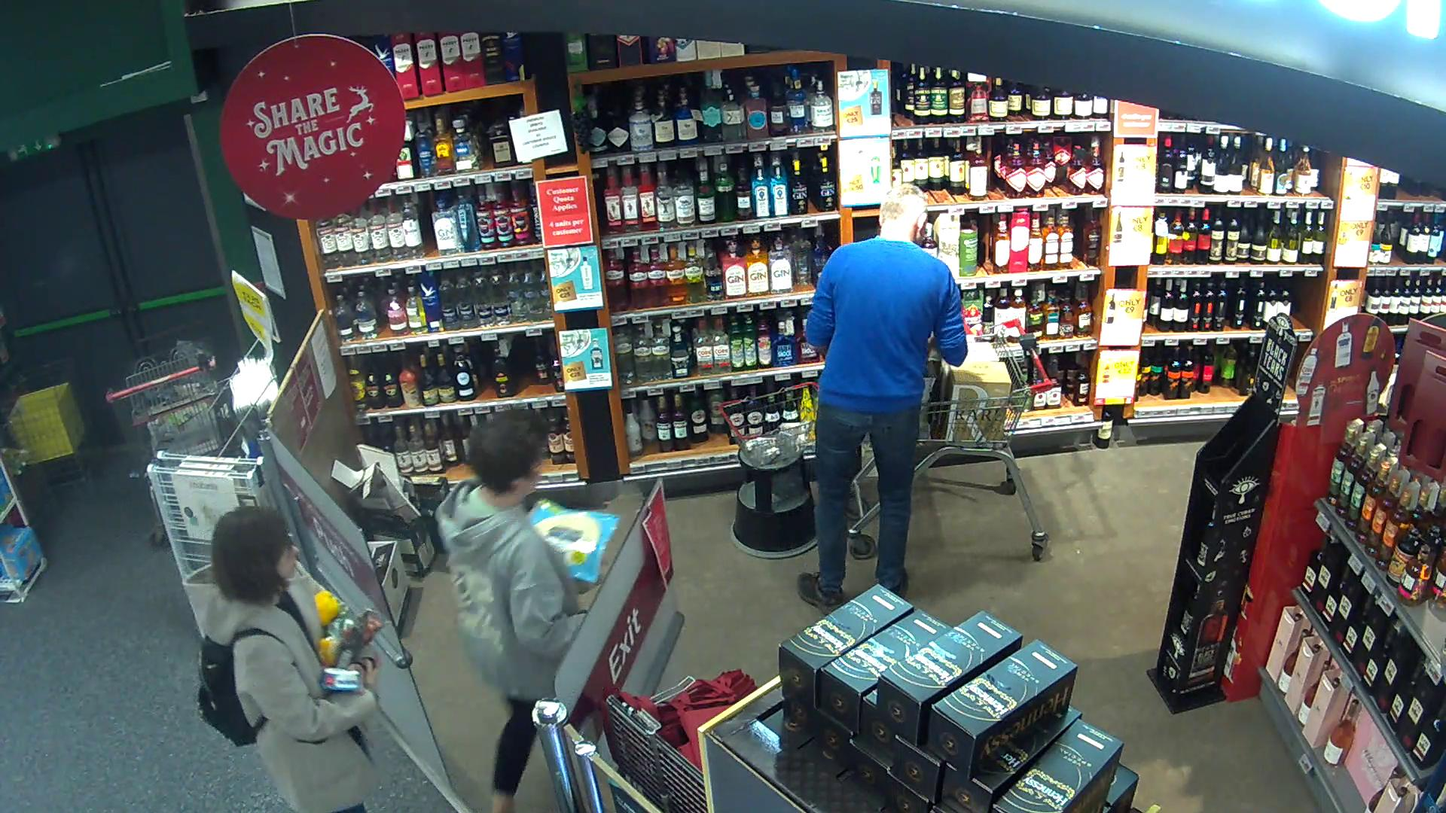backpack-or-handbag: (196, 636, 256, 748)
carrying-item: (308, 591, 385, 695), (528, 498, 621, 582)
person: (433, 406, 592, 813), (184, 505, 379, 813)
person-with-backpack-handbag-and-carrying-item-s-: (183, 504, 385, 813)
person-with-carrying-item: (433, 405, 621, 813)
